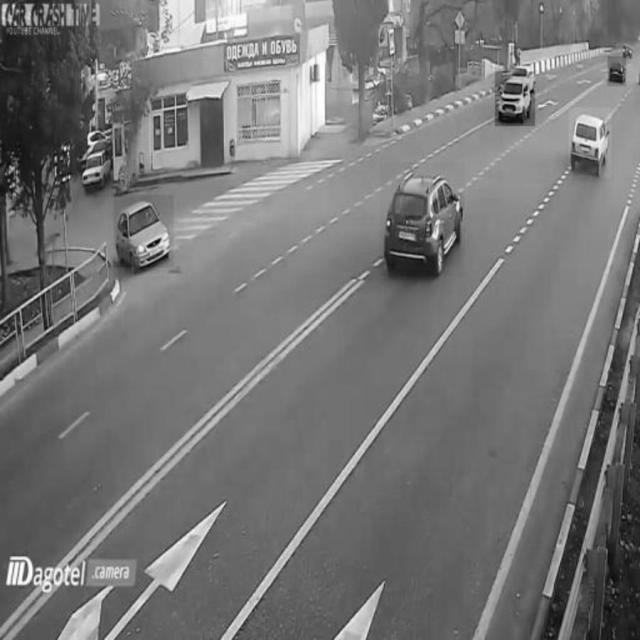vehicle: (380, 163, 466, 276), (114, 195, 174, 267), (569, 107, 611, 177), (495, 72, 535, 127), (81, 152, 111, 189), (607, 56, 625, 86)
